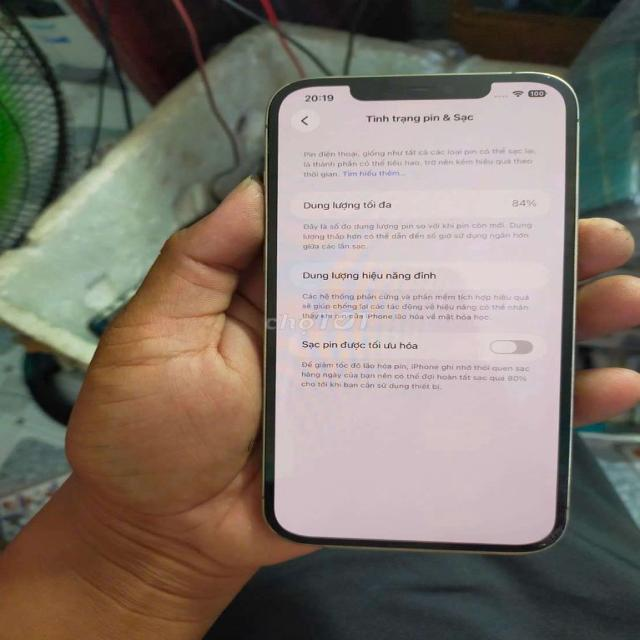gen_12_13: (247, 66, 590, 570)
